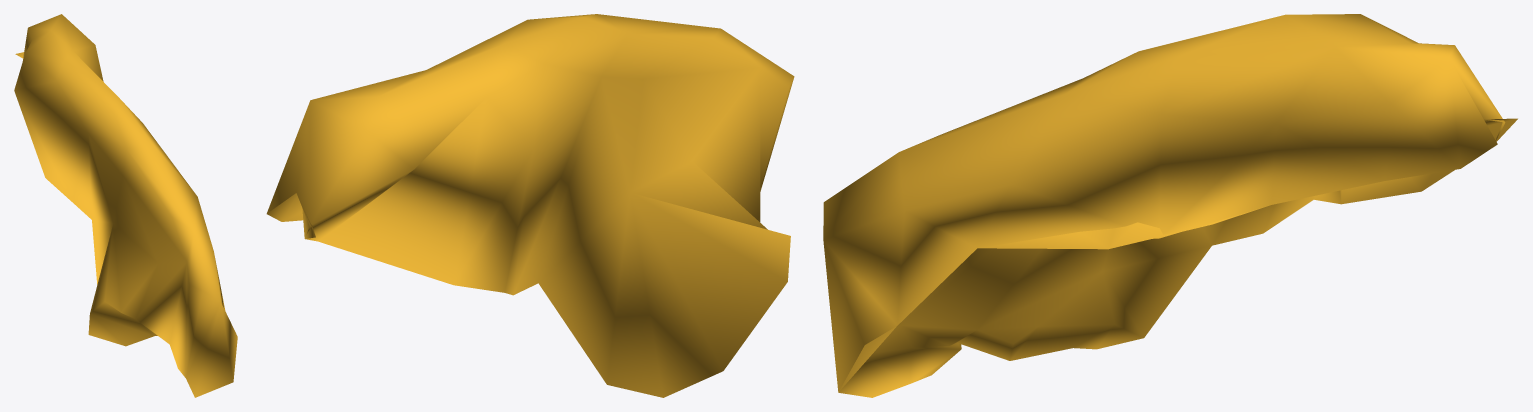
The model's file is nervoso-inferior-temporal-sulcus-l.glb.
3 renders of one model, left to right at view 1: azimuth 30°, elevation 25°; view 2: azimuth 150°, elevation 25°; view 3: azimuth 270°, elevation 25°, orthographic. The views are drawn at different scales.
Visible parts, largest first — view 1: Inferior temporal sulcus.l; view 2: Inferior temporal sulcus.l; view 3: Inferior temporal sulcus.l.
Part boxes in pixels (x1,y1,x2,y2): Inferior temporal sulcus.l: (14,14,237,397); Inferior temporal sulcus.l: (266,14,794,397); Inferior temporal sulcus.l: (823,14,1517,397).
Size of the model in its own units: 0.011 by 0.0201 by 0.033.
